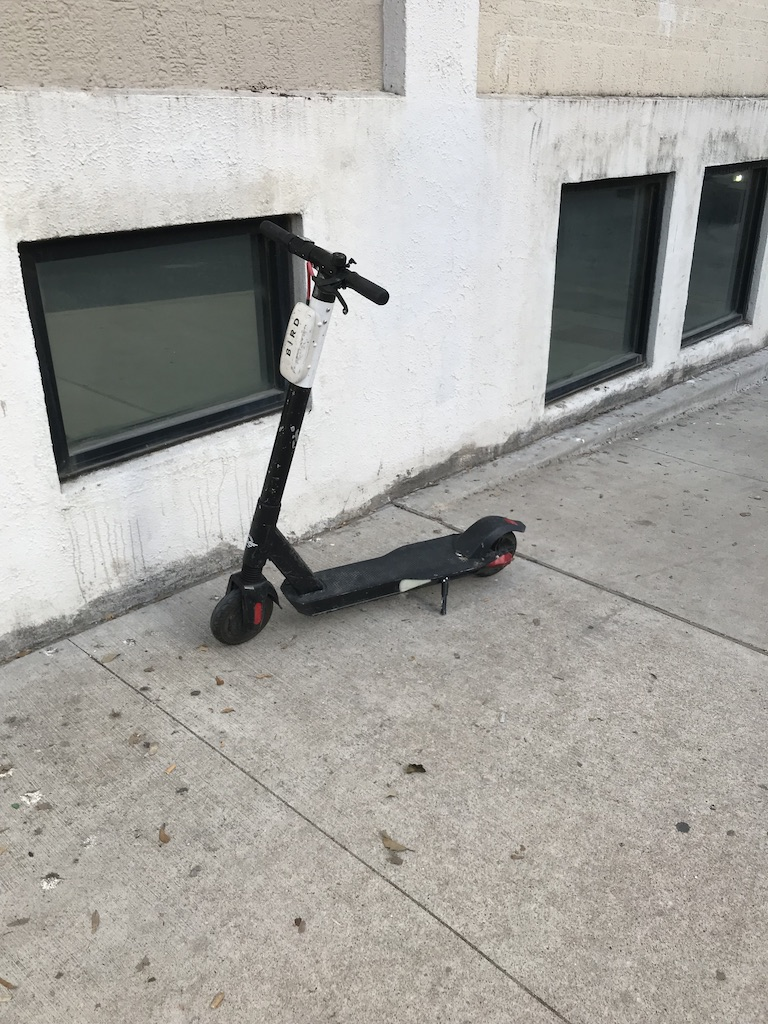scooter: (211, 220, 527, 649)
